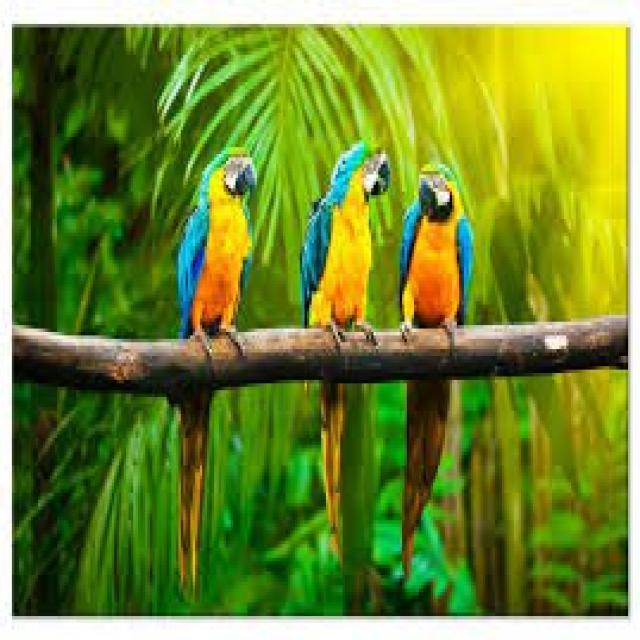Parrot: (170, 144, 262, 602), (299, 140, 393, 561), (399, 152, 469, 579)
